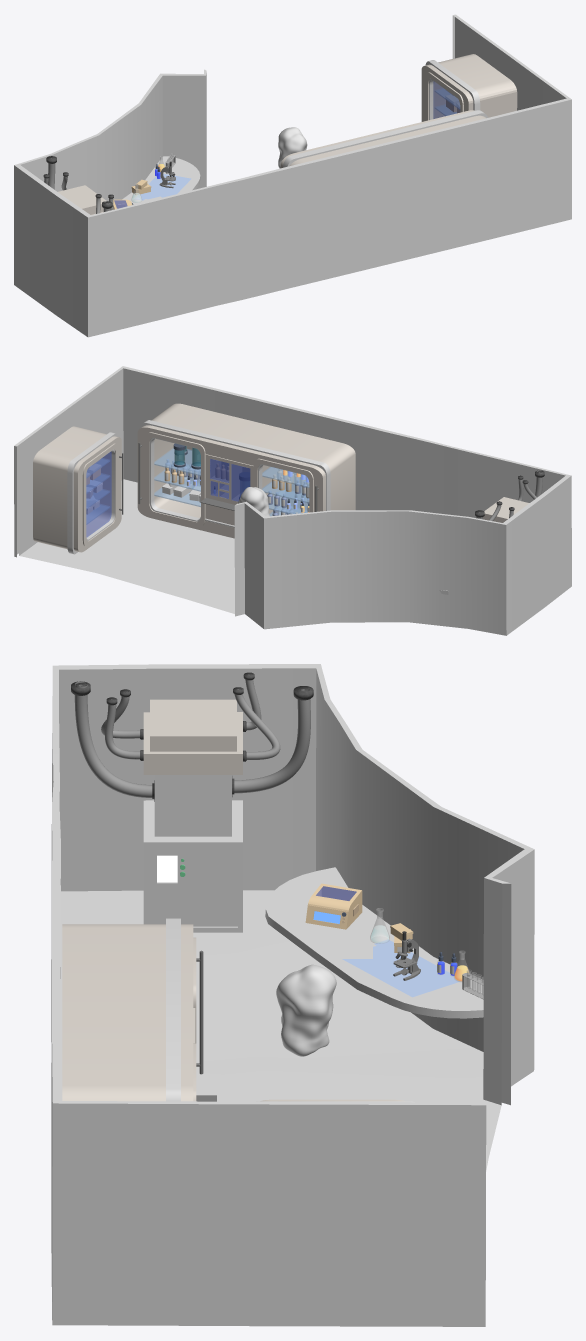
Rendered from bouteille_test.fbx.
3 renders of one model, top to bottom at view 1: azimuth 30°, elevation 25°; view 2: azimuth 150°, elevation 25°; view 3: azimuth 270°, elevation 25°, orthographic. The views are drawn at different scales.
Parts seen in each view (by area): view 1: labo_chimie, placard_petit, placard, labo_chimie.002, Socle_Haaut, Nonapplyrock, plan_de_travail, Tubes_Cuve_iso; view 2: labo_chimie, placard, placard_petit, bouteilles_remplissage, Tubes_Cuve_iso, bouteille_remplissage2, Socle_Haaut, Nonapplyrock, boites.005; view 3: labo_chimie, placard, Cuve_Bas, labo_chimie.002, Socle_Haaut, Tubes_Cuve_iso, Vitre_cuve, Nonapplyrock, plan_de_travail, boite_detude.
Boxes of the visible parts, x1,y1,x2,y2 form: labo_chimie: (14, 14, 571, 337); placard_petit: (421, 54, 517, 121); placard: (280, 110, 487, 168); labo_chimie.002: (122, 156, 200, 204); Socle_Haaut: (58, 185, 106, 215); Nonapplyrock: (278, 127, 307, 168); plan_de_travail: (135, 174, 191, 200); Tubes_Cuve_iso: (43, 156, 113, 213); labo_chimie: (14, 366, 571, 635); placard: (137, 403, 355, 538); placard_petit: (33, 426, 123, 554); bouteilles_remplissage: (267, 467, 309, 515); Tubes_Cuve_iso: (475, 470, 544, 521); bouteille_remplissage2: (164, 459, 200, 486); Socle_Haaut: (483, 497, 529, 522); Nonapplyrock: (238, 487, 269, 516); boites.005: (162, 476, 200, 502); labo_chimie: (51, 664, 534, 1326); placard: (62, 918, 216, 1101); Cuve_Bas: (143, 800, 242, 932); labo_chimie.002: (265, 867, 483, 1018); Socle_Haaut: (143, 699, 242, 774); Tubes_Cuve_iso: (71, 672, 313, 801); Vitre_cuve: (154, 775, 231, 836); Nonapplyrock: (276, 964, 336, 1056); plan_de_travail: (342, 939, 460, 997); boite_detude: (305, 883, 362, 929).
Bounding box in the file's own units: 1276 × 592 × 312.
